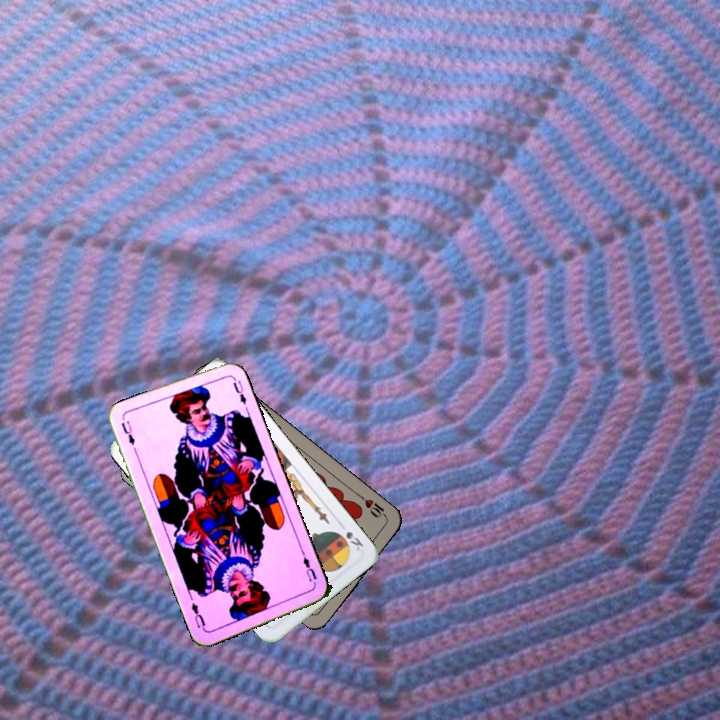EU: (298, 548, 319, 584), (117, 417, 137, 448)
H10: (355, 491, 390, 522)
SK: (335, 519, 366, 553)
